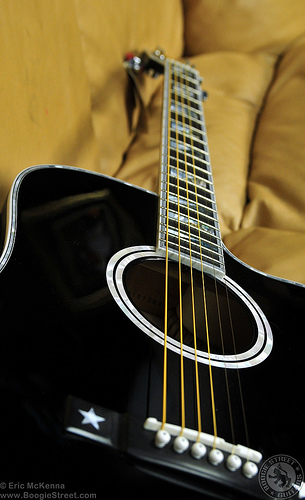guitar: (1, 44, 305, 500)
